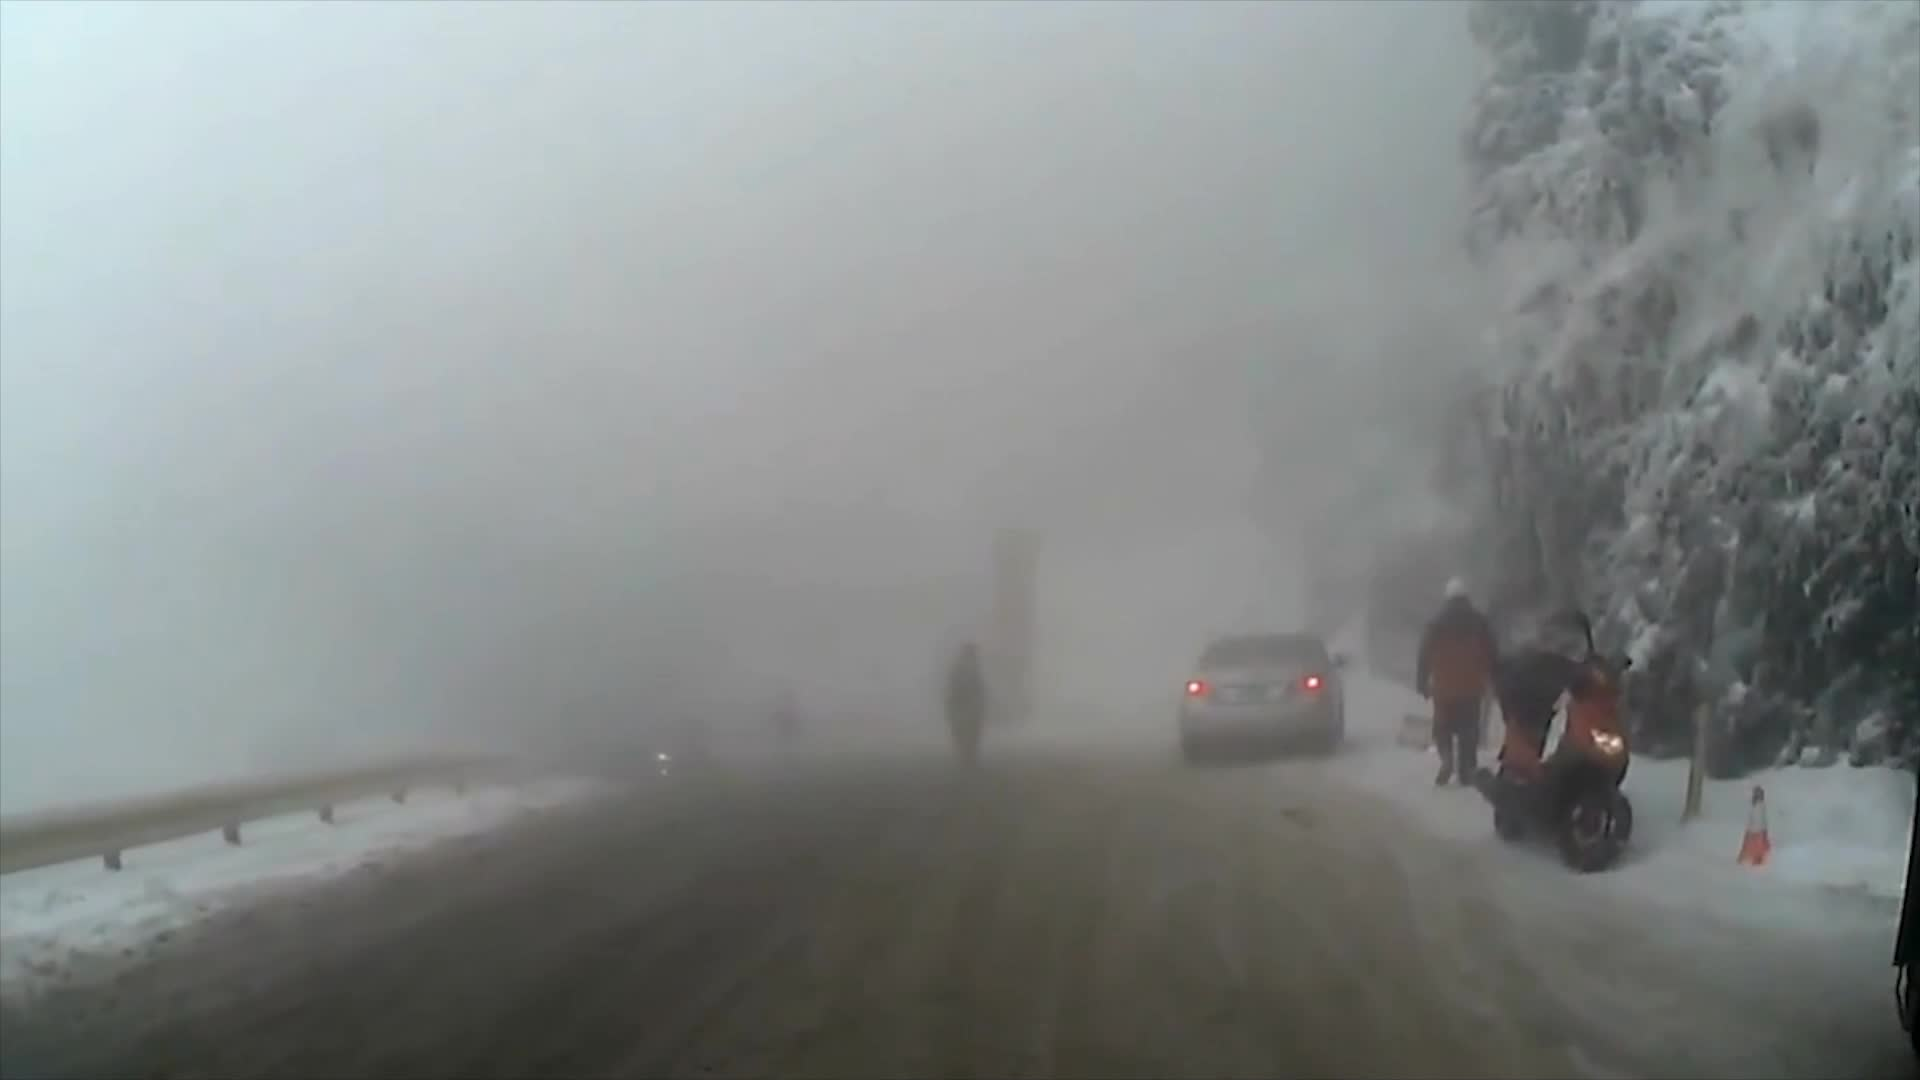pedestrian: (1411, 569, 1511, 792), (946, 638, 992, 780)
vehicle: (1178, 626, 1351, 762)
